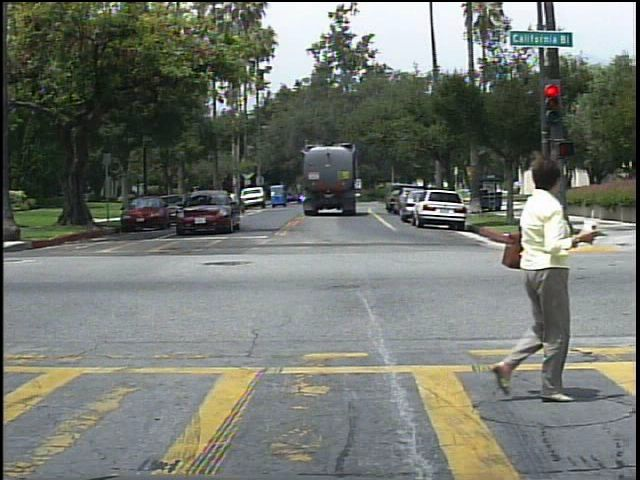person: (479, 136, 599, 408), (512, 180, 525, 199)
